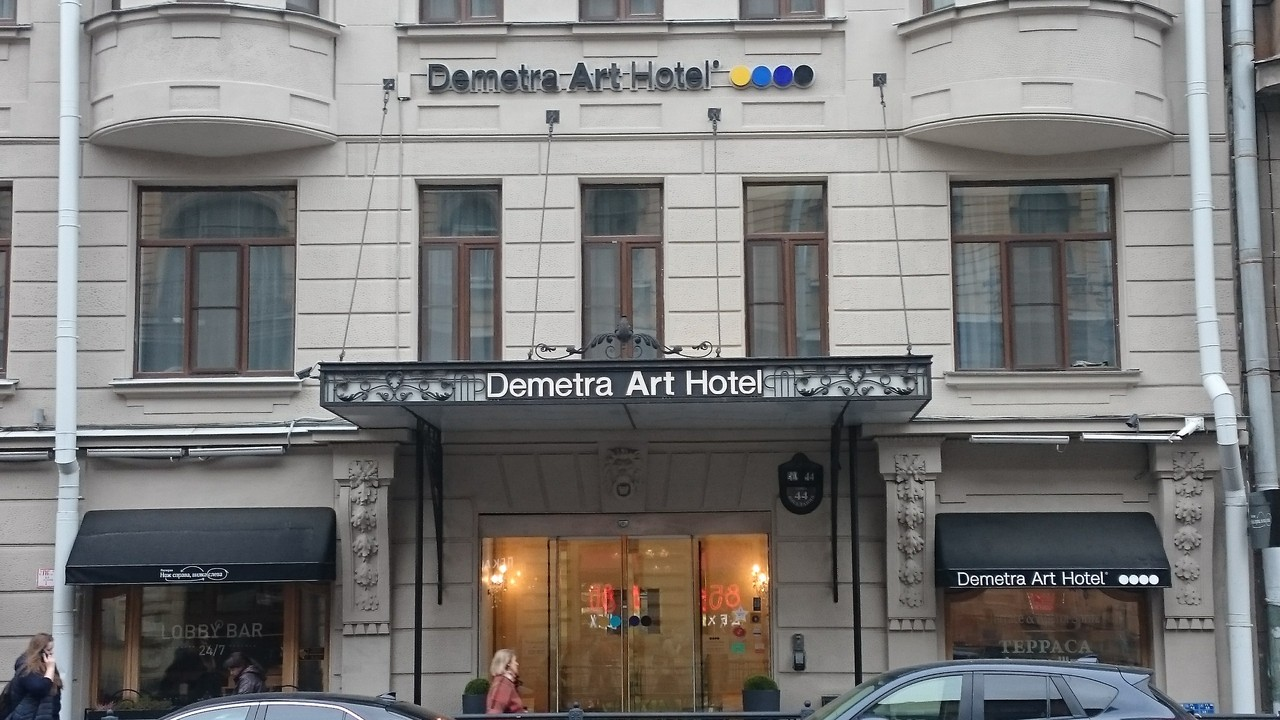signboard: (427, 56, 818, 94), (486, 370, 765, 398)
window: (482, 534, 775, 712), (132, 185, 300, 377), (952, 179, 1118, 372), (90, 577, 325, 708), (742, 177, 827, 359), (581, 182, 662, 361), (420, 187, 502, 359)
